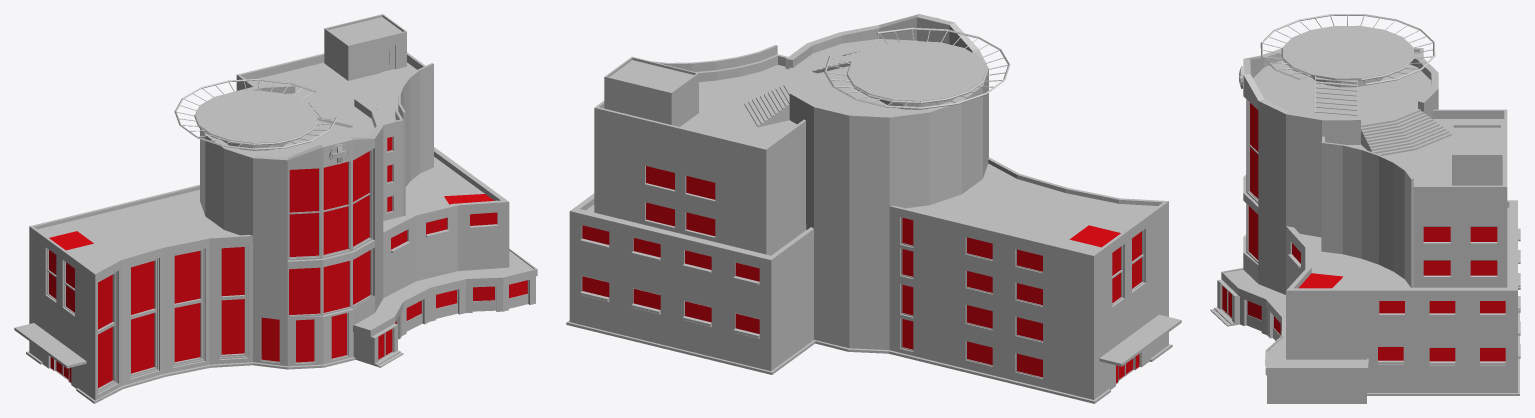
Rendered from SM_infrastructure_buildings_07.gltf.
3 renders of one model, left to right at view 1: azimuth 30°, elevation 25°; view 2: azimuth 150°, elevation 25°; view 3: azimuth 270°, elevation 25°, orthographic. The views are drawn at different scales.
Visible parts, largest first — view 1: infrastructure_buildings_07; view 2: infrastructure_buildings_07; view 3: infrastructure_buildings_07.
Boxes of the visible parts, <box> form: infrastructure_buildings_07: <box>14,14,537,403</box>; infrastructure_buildings_07: <box>566,14,1181,403</box>; infrastructure_buildings_07: <box>1210,14,1520,403</box>.
Size of the model in its own units: 46 by 21.43 by 26.
